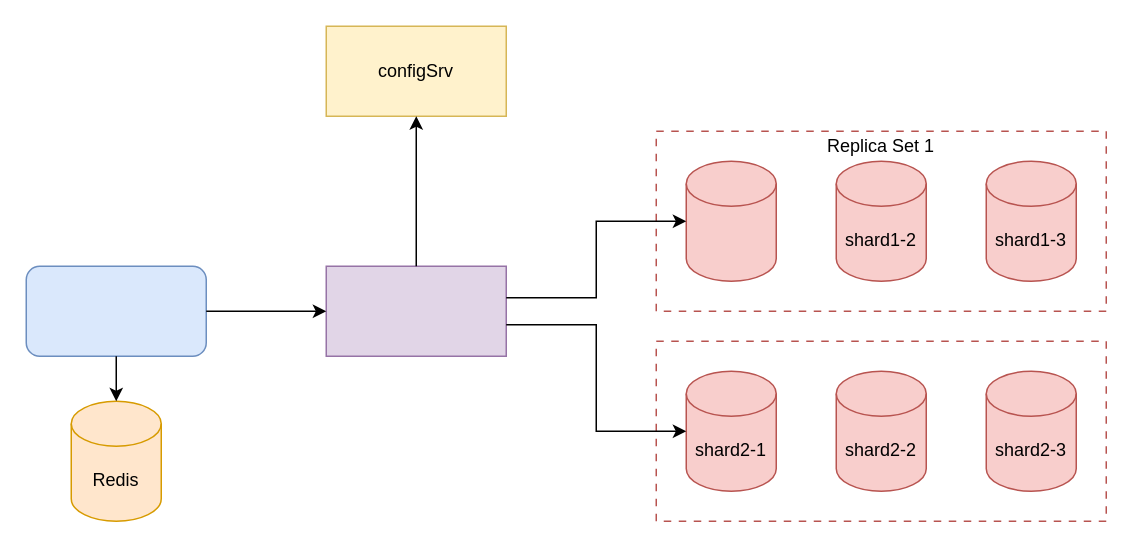
The diagram is 1133 pixels wide and 548 high, and some of its shapes have lost their labels. Here are the shapes that lost their labels. From the top down, the box of each, then its label:
(685, 160, 776, 281): shard1-1
(25, 265, 206, 356): pymongo-api
(325, 265, 506, 356): mongos
(655, 340, 1106, 521): Replica Set 2
